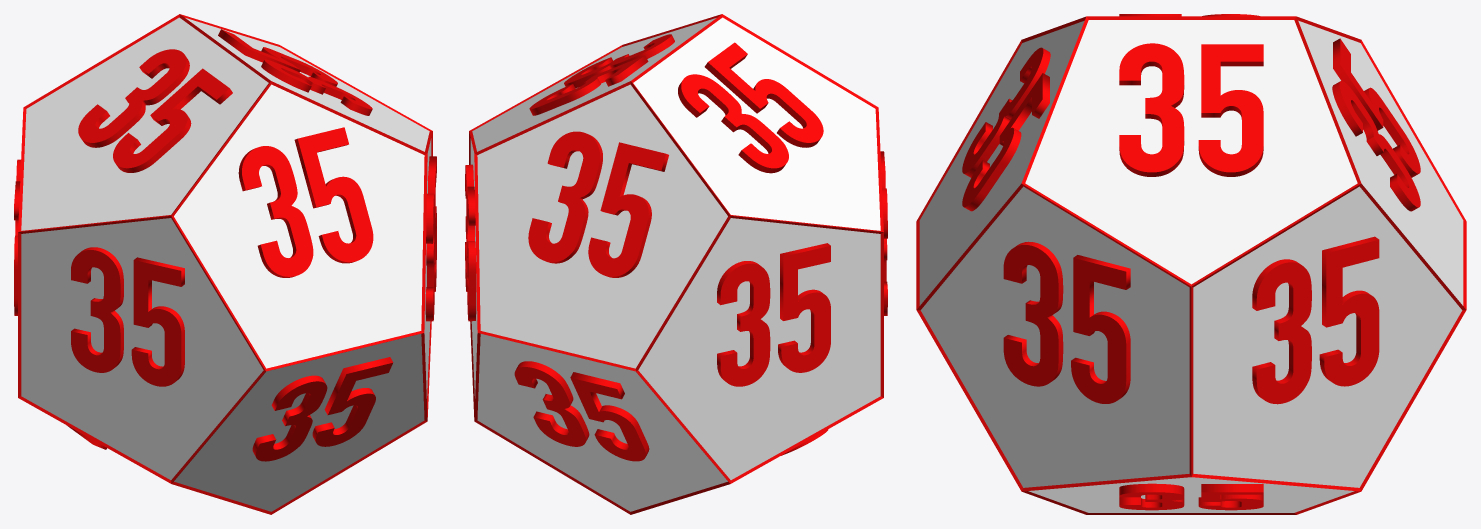
Rendered from dodecahedron_sign-35.glb.
The picture shows the model from 3 angles, left to right: view 1: azimuth 30°, elevation 25°; view 2: azimuth 150°, elevation 25°; view 3: azimuth 270°, elevation 25°; orthographic projection. The views are drawn at different scales.
Visible parts, largest first — view 1: Dodecahedron_Solid, Text20_5, Dodecahedron_Wire, Text20_11, Text20_7, Text20_10, Text20_2, Text20_6, Text20_8; view 2: Dodecahedron_Solid, Text20_0, Dodecahedron_Wire, Text20_8, Text20_7, Text20_3, Text20_2, Text20_1, Text20_11; view 3: Dodecahedron_Solid, Dodecahedron_Wire, Text20_6, Text20_1, Text20_2, Text20_5, Text20_0, Text20_4.
Part boxes in pixels (box(x1,y1,x2,y2)): Dodecahedron_Solid: box(21, 17, 431, 511); Text20_5: box(238, 127, 373, 277); Dodecahedron_Wire: box(18, 14, 432, 514); Text20_11: box(71, 247, 184, 386); Text20_7: box(78, 49, 232, 172); Text20_10: box(252, 357, 393, 461); Text20_2: box(218, 29, 372, 115); Text20_6: box(425, 156, 436, 321); Text20_8: box(14, 159, 20, 315); Dodecahedron_Solid: box(470, 17, 880, 511); Text20_0: box(528, 131, 668, 277); Dodecahedron_Wire: box(469, 14, 883, 514); Text20_8: box(717, 243, 830, 386); Text20_7: box(678, 42, 823, 173); Text20_3: box(514, 361, 649, 461); Text20_2: box(529, 34, 674, 115); Text20_1: box(465, 164, 476, 321); Text20_11: box(880, 151, 887, 315); Dodecahedron_Solid: box(919, 20, 1463, 512); Dodecahedron_Wire: box(916, 16, 1466, 514); Text20_6: box(1003, 241, 1130, 403); Text20_1: box(1252, 236, 1379, 404); Text20_2: box(1119, 43, 1263, 176); Text20_5: box(962, 47, 1050, 211); Text20_0: box(1332, 38, 1420, 211); Text20_4: box(1119, 483, 1263, 510).
Size of the model in its own units: 3.26 by 3.26 by 3.26.
